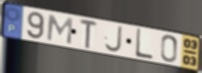0: (160, 34, 179, 63)
9: (25, 11, 46, 41)
J: (104, 25, 124, 54)
L: (134, 27, 154, 61)
M: (45, 14, 74, 46)
T: (79, 18, 99, 51)
